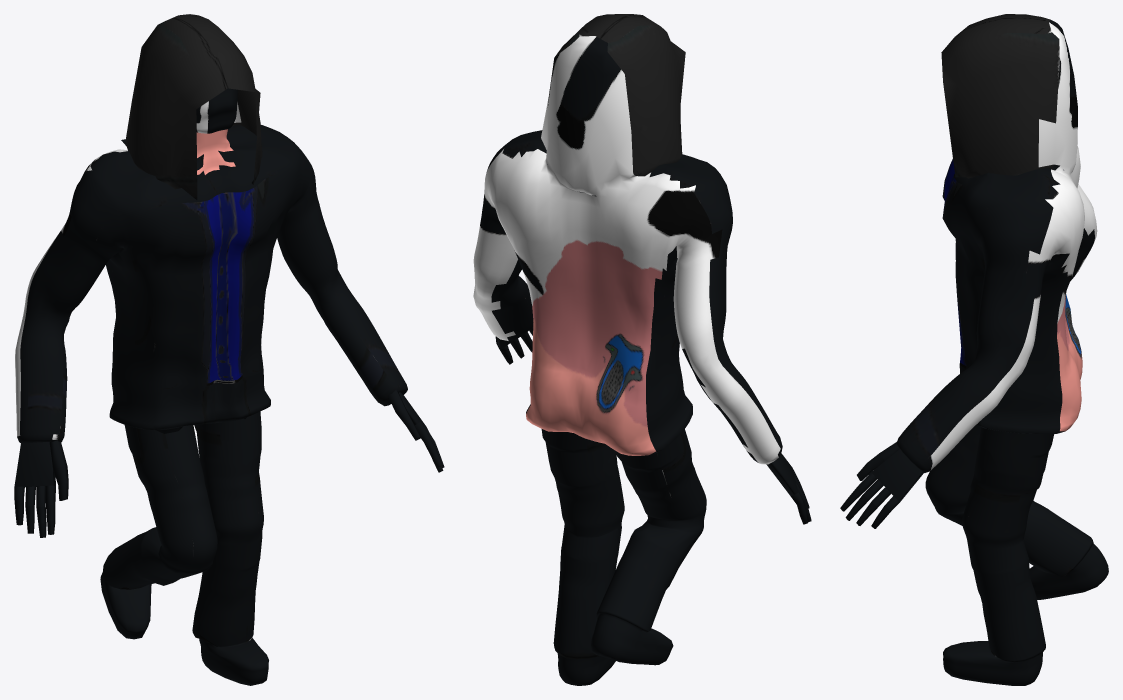
File: keyFrame04.obj
3 views of the same model, side by side, from view 1: azimuth 30°, elevation 25°; view 2: azimuth 150°, elevation 25°; view 3: azimuth 270°, elevation 25° (orthographic). The views are drawn at different scales.
Parts seen in each view (by area): view 1: pasted__polySurface71 group4; view 2: pasted__polySurface71 group4; view 3: pasted__polySurface71 group4.
Boxes of the visible parts, left/top/right/bottom form: pasted__polySurface71 group4: left=14, top=14, right=444, bottom=685; pasted__polySurface71 group4: left=473, top=14, right=811, bottom=685; pasted__polySurface71 group4: left=840, top=14, right=1108, bottom=685.
Size of the model in its own units: 7.44 by 12.89 by 4.85.
Materials: 1 (1 with a texture image).
